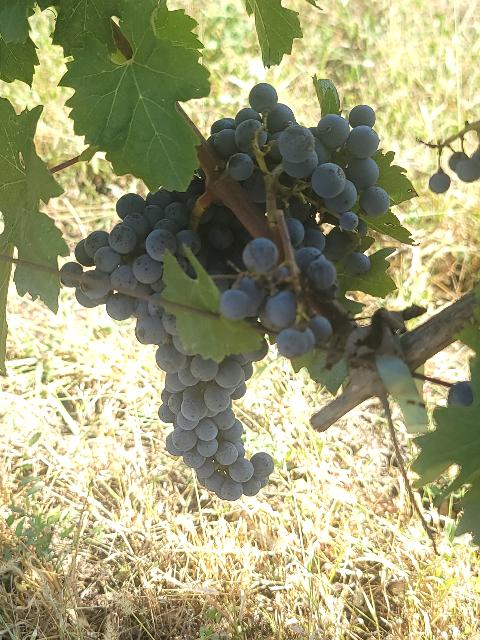grapes: (61, 190, 271, 500), (214, 84, 391, 304), (220, 238, 315, 359)
